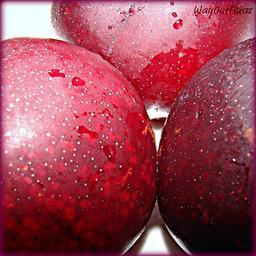apple: (1, 39, 158, 256), (51, 1, 255, 117), (156, 37, 256, 256)
